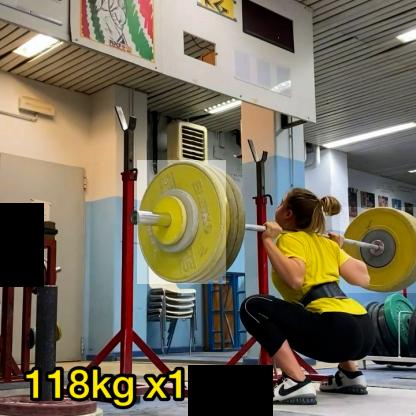barbell: (138, 161, 227, 285), (341, 208, 416, 294)
